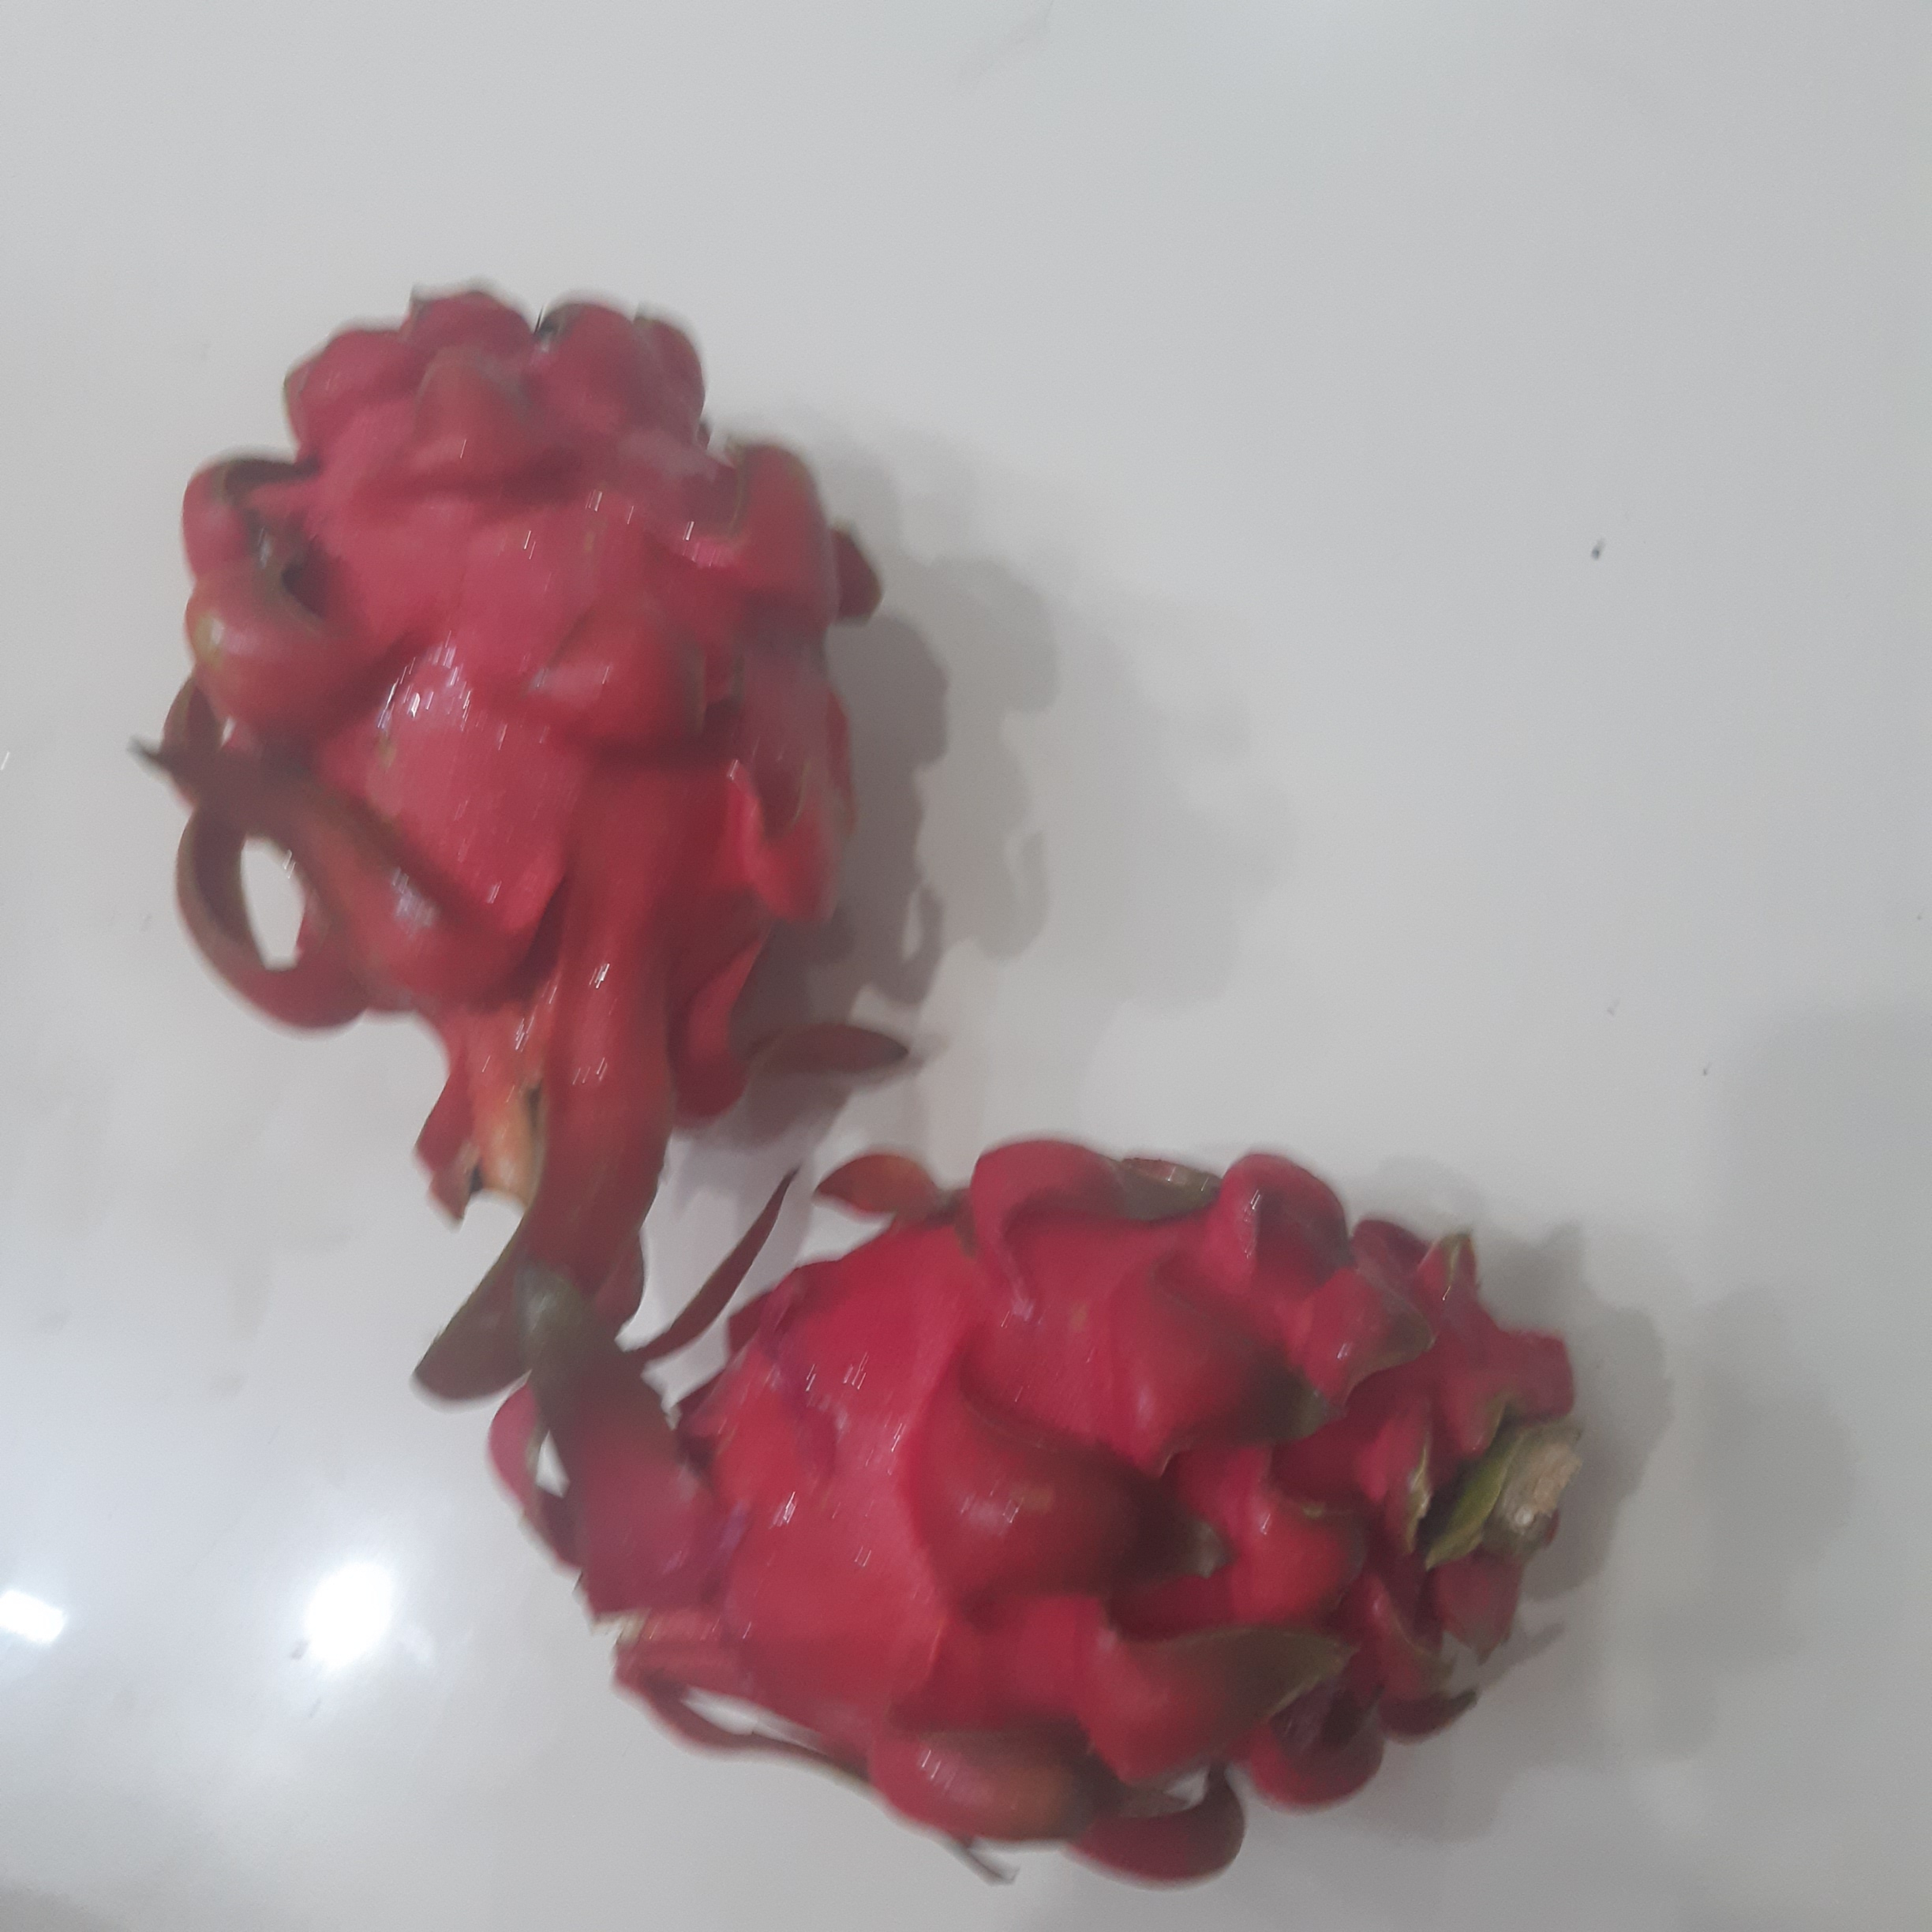Thanh long: (598, 1155, 1577, 1826), (181, 279, 847, 1207)
